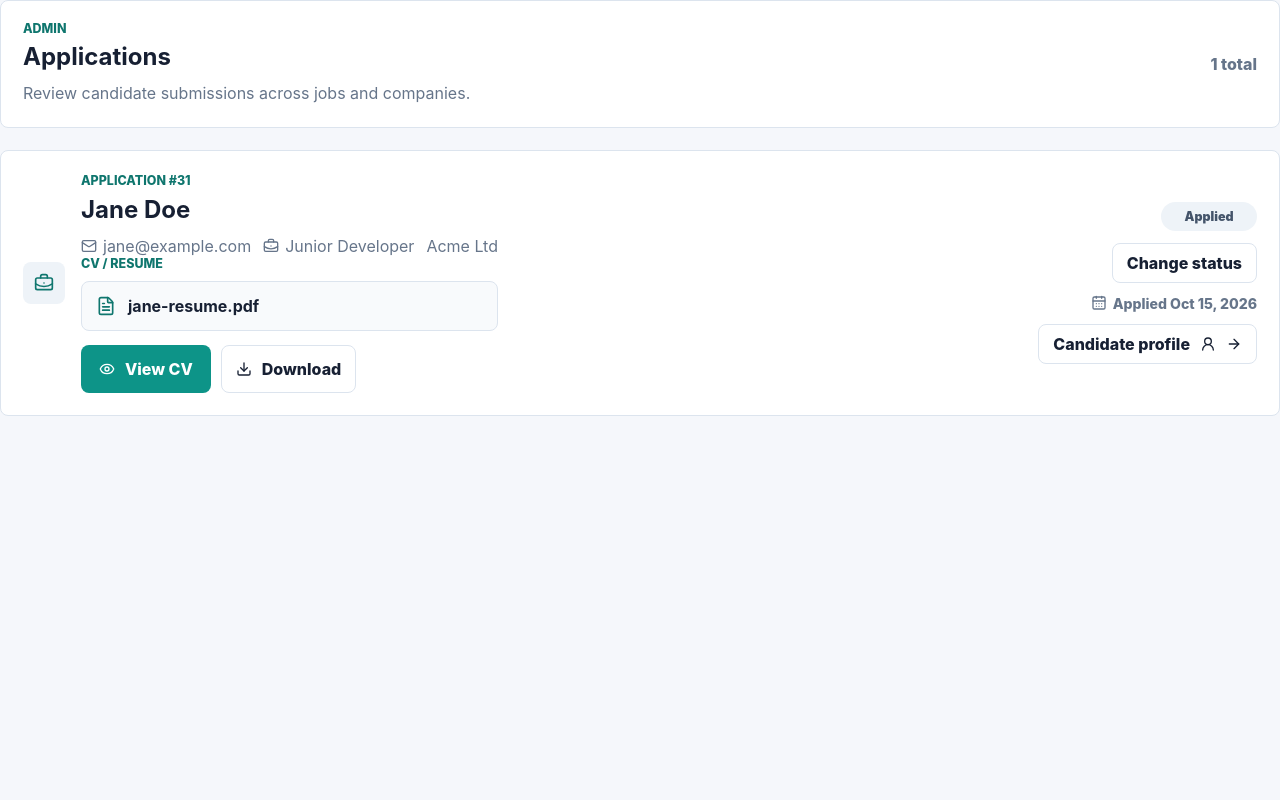
Test: AdminApplicationsPage › updates an application status and refreshes the displayed data
The image size is (1280, 800).
Expected: the link "Jane Doe" is shown, [81, 195, 190, 224]
Click the button "Change status".
click(1184, 263)  # box [1112, 243, 1257, 283]
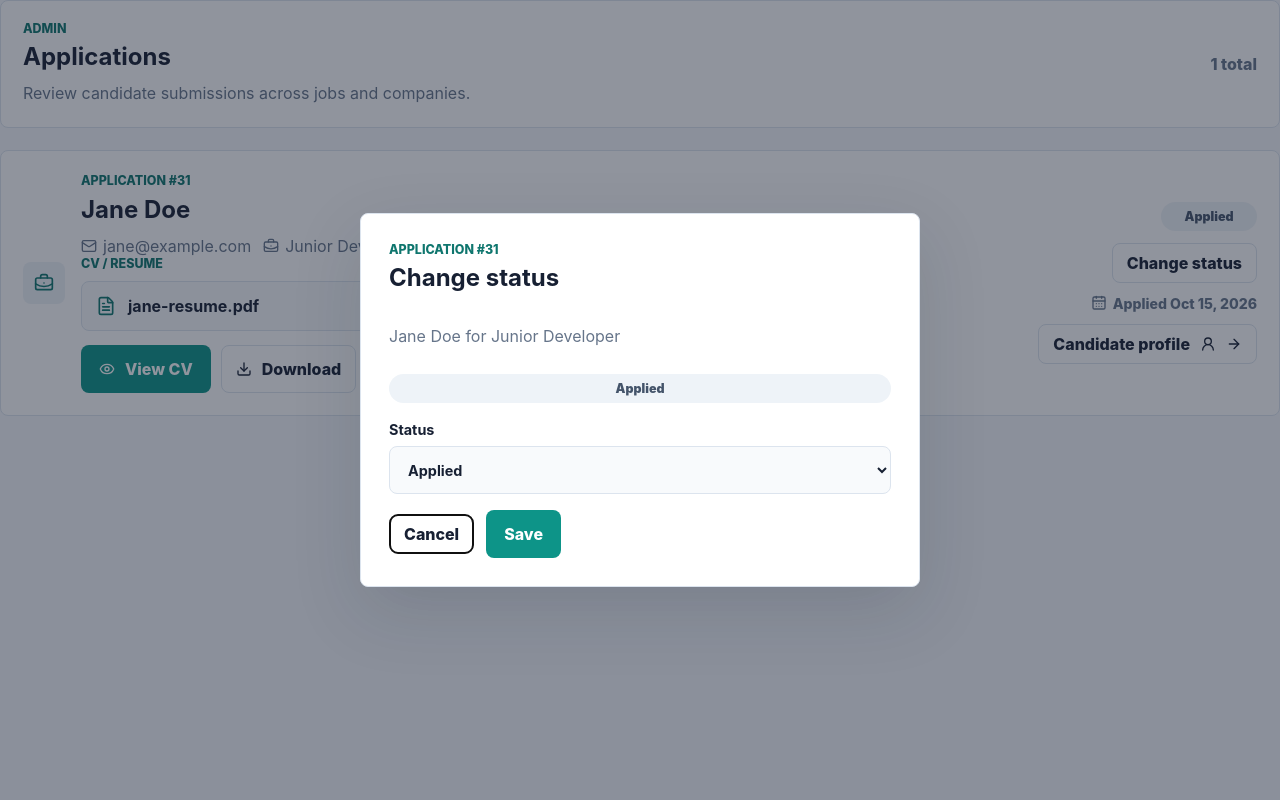
Now the dialog is shown, box [360, 213, 920, 587]
Select "Rejected" in the dropdown labelled "Status" at (640, 470), box [389, 446, 891, 494]
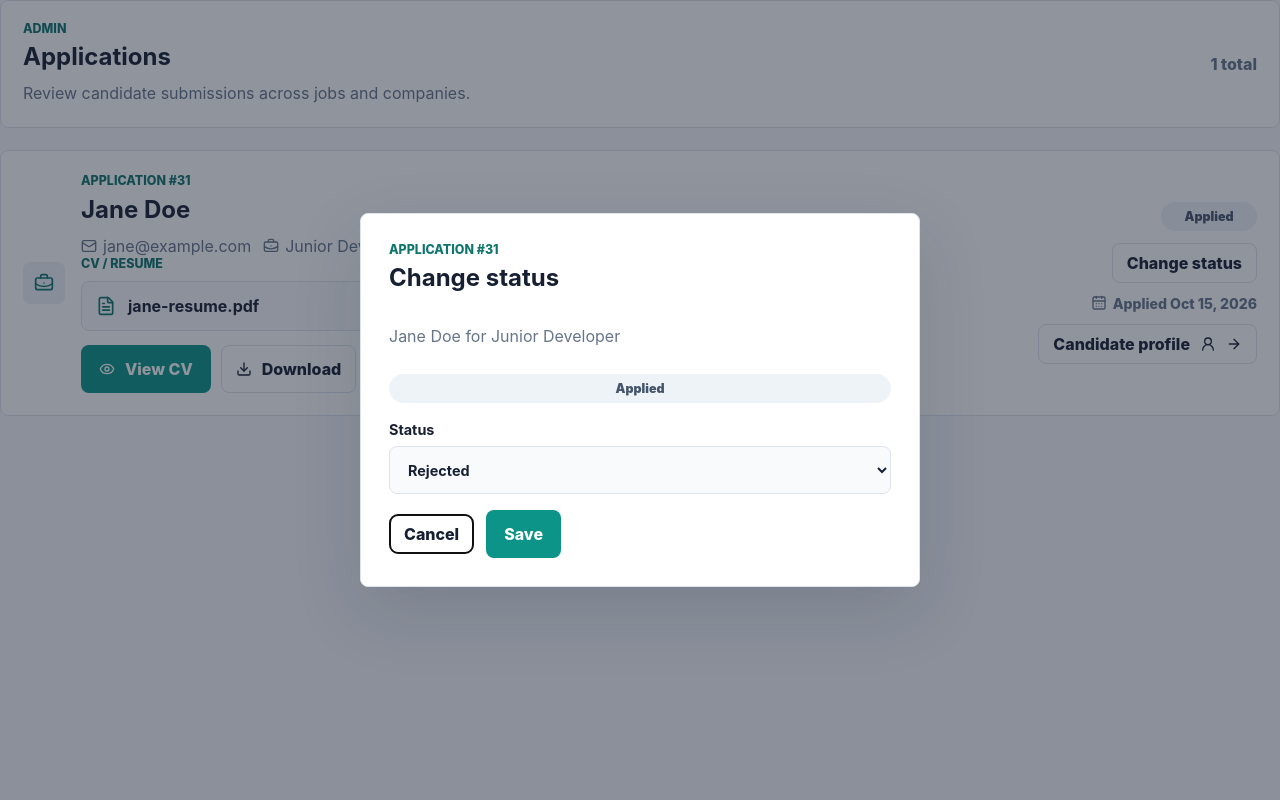
Click the button "Save".
click(524, 534)  # box [486, 510, 561, 558]
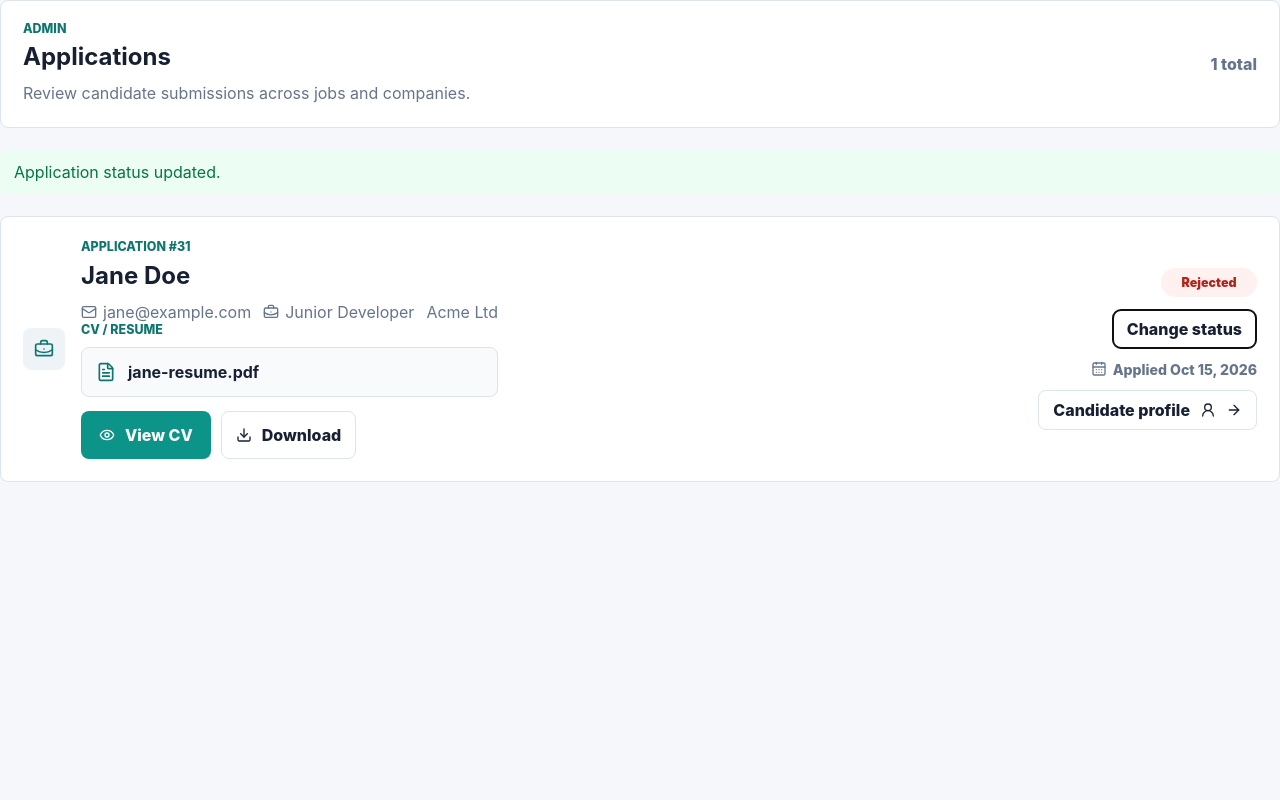
Now the text "Application status updated." is shown, box [0, 150, 1279, 194]
Now the dialog is gone
Now the text "Rejected" is shown, box [1161, 268, 1257, 297]
